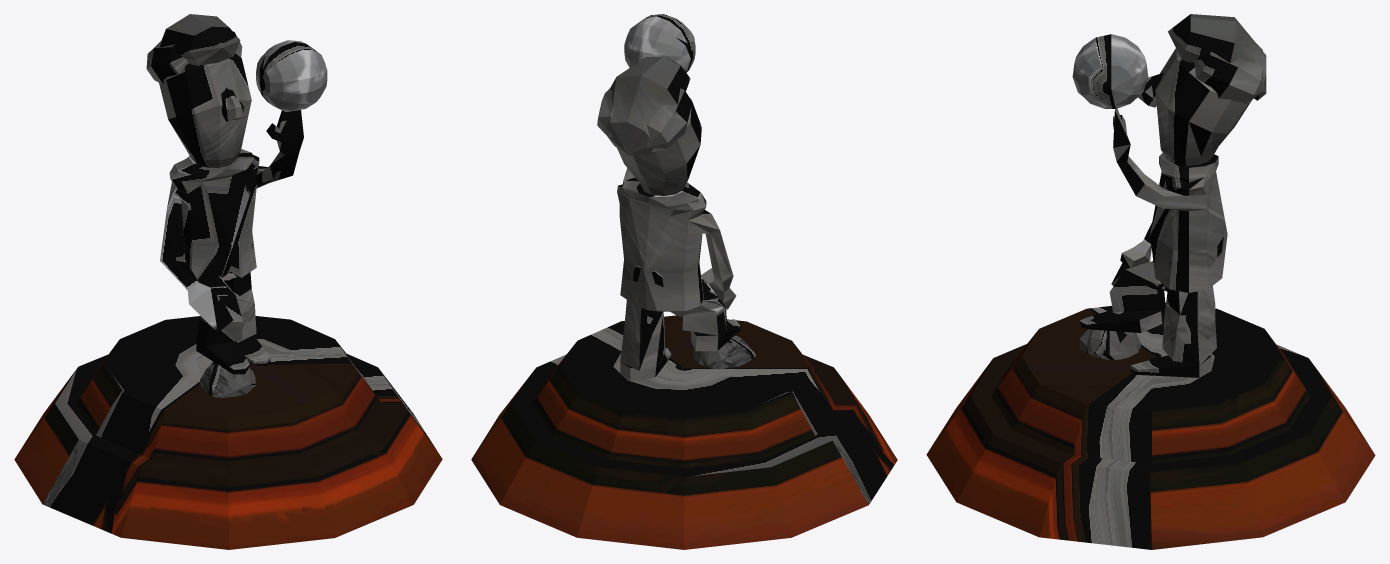
Rendered from YachStat.glb.
3 renders of one model, left to right at view 1: azimuth 30°, elevation 25°; view 2: azimuth 150°, elevation 25°; view 3: azimuth 270°, elevation 25°, orthographic. The views are drawn at different scales.
Visible parts, largest first — view 1: YachStat; view 2: YachStat; view 3: YachStat.
Boxes of the visible parts, bbox=[...] form: YachStat: bbox=[14, 14, 442, 549]; YachStat: bbox=[471, 14, 897, 549]; YachStat: bbox=[926, 14, 1375, 549].
Size of the model in its own units: 255 by 276 by 255.
Materials: 1 (1 with a texture image).
